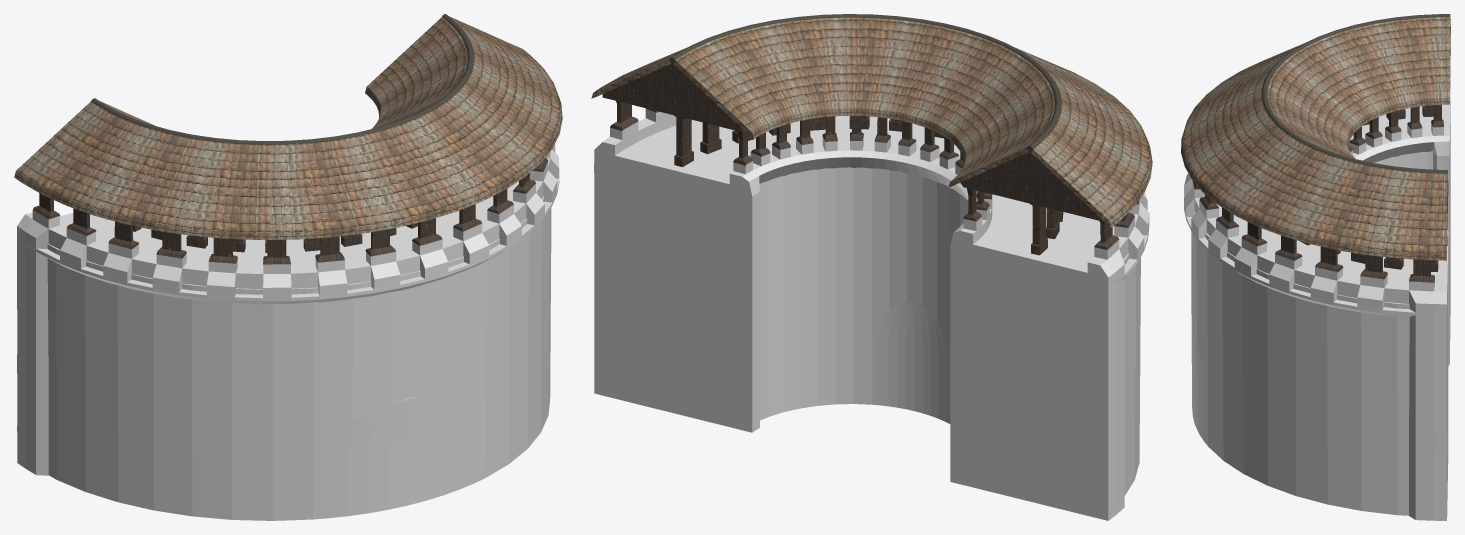
File: CastleWallsRoof-6.fbx
The picture shows the model from 3 angles, left to right: view 1: azimuth 30°, elevation 25°; view 2: azimuth 150°, elevation 25°; view 3: azimuth 270°, elevation 25°; orthographic projection. The views are drawn at different scales.
Parts seen in each view (by area): view 1: HradbyTypE.012; view 2: HradbyTypE.012; view 3: HradbyTypE.012.
Part boxes in pixels (<box>): HradbyTypE.012: <box>14,14,562,520</box>; HradbyTypE.012: <box>591,14,1152,520</box>; HradbyTypE.012: <box>1181,14,1450,520</box>.
Bounding box in the file's own units: 3525 × 2293 × 1771.
